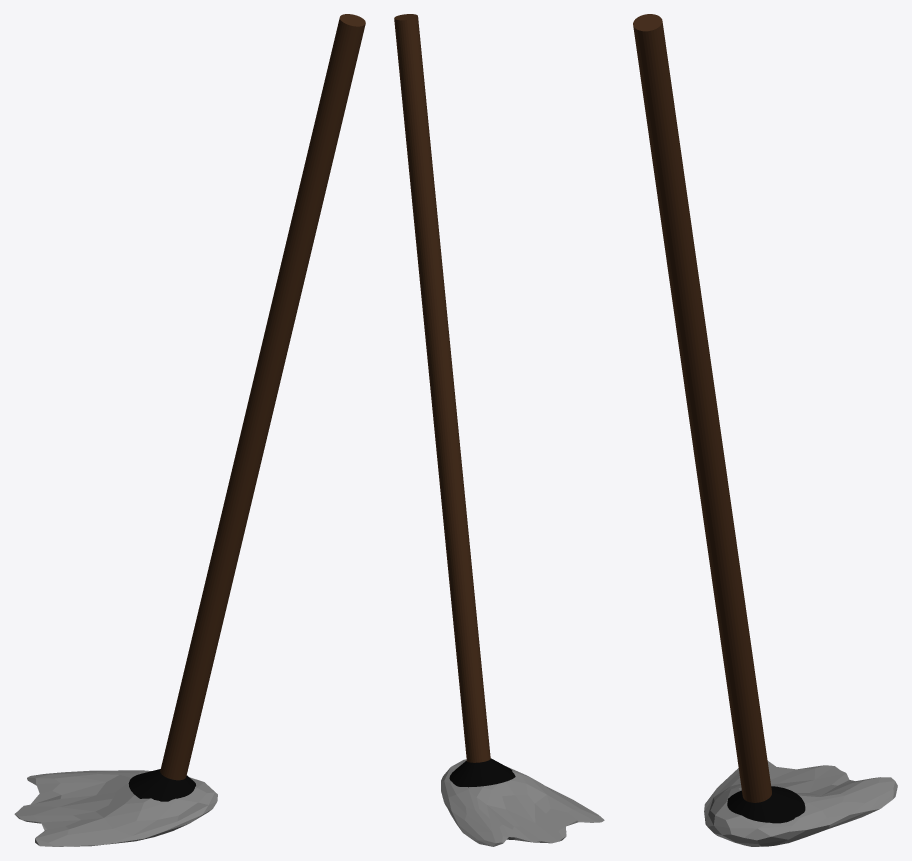
The model's file is mop broom.fbx.
3 views of the same model, side by side, from view 1: azimuth 30°, elevation 25°; view 2: azimuth 150°, elevation 25°; view 3: azimuth 270°, elevation 25° (orthographic). The views are drawn at different scales.
Parts seen in each view (by area): view 1: Cylinder.011, Icosphere, Cone; view 2: Cylinder.011, Icosphere, Cone; view 3: Cylinder.011, Icosphere, Cone.
Part boxes in pixels (x1=…): Cylinder.011: x1=160, y1=14, x2=365, y2=780; Icosphere: x1=14, y1=770, x2=217, y2=846; Cone: x1=128, y1=769, x2=195, y2=801; Cylinder.011: x1=394, y1=14, x2=490, y2=762; Icosphere: x1=441, y1=759, x2=604, y2=846; Cone: x1=449, y1=758, x2=515, y2=787; Cylinder.011: x1=633, y1=14, x2=771, y2=802; Icosphere: x1=704, y1=761, x2=897, y2=846; Cone: x1=727, y1=786, x2=805, y2=823.
Size of the model in its own units: 573 by 1572 by 424.
